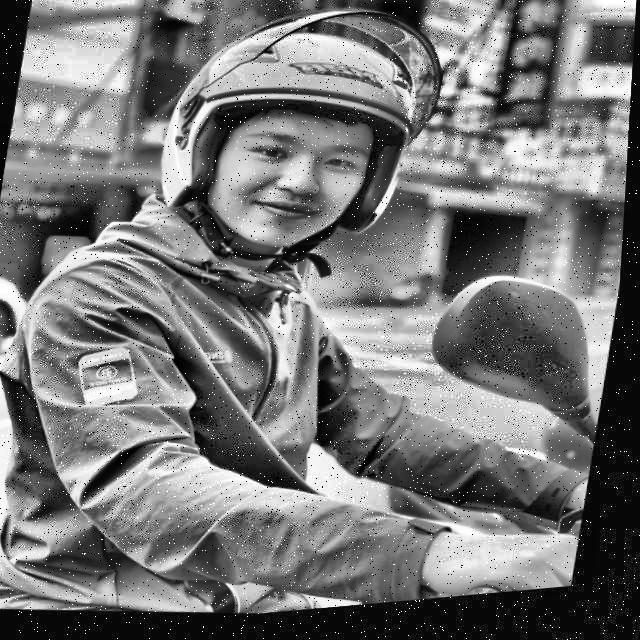Helmet: (136, 0, 472, 298)
